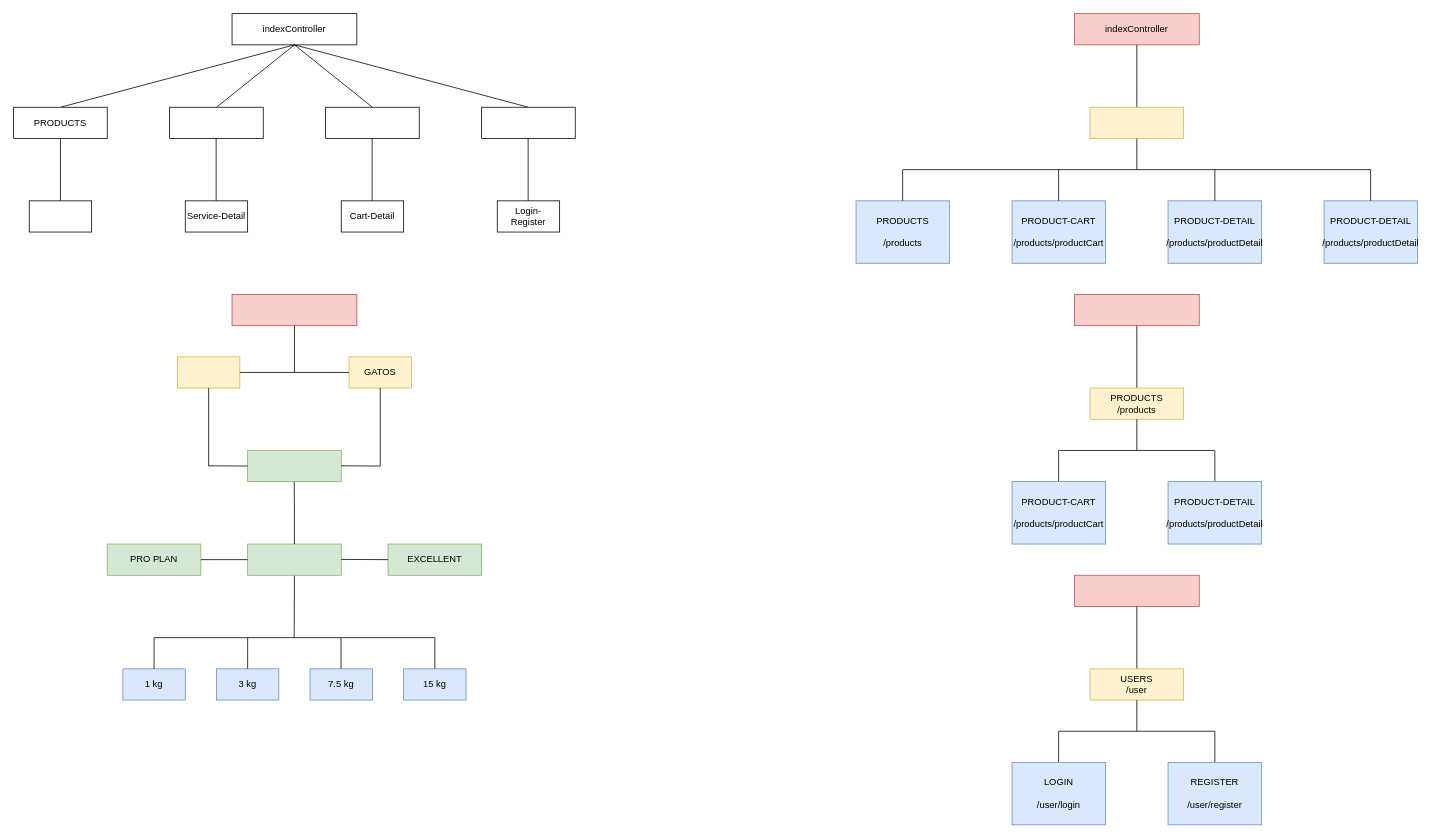
Some shapes in this 1432 by 838 pixel diagram are drawn without their labels. Each missing label, with the centre of its shape:
ALIMENTO BALANCEADO: (294,466)
CATEGORIES: (294,310)
EUKANUBA: (294,559)
INDEX /: (1136,122)
PERROS: (208,372)
PRODUCT CART: (372,122)
Product-Detail: (60,216)
productController: (1136,310)
SERVICES: (216,122)
USER: (528,122)
userController: (1136,590)
